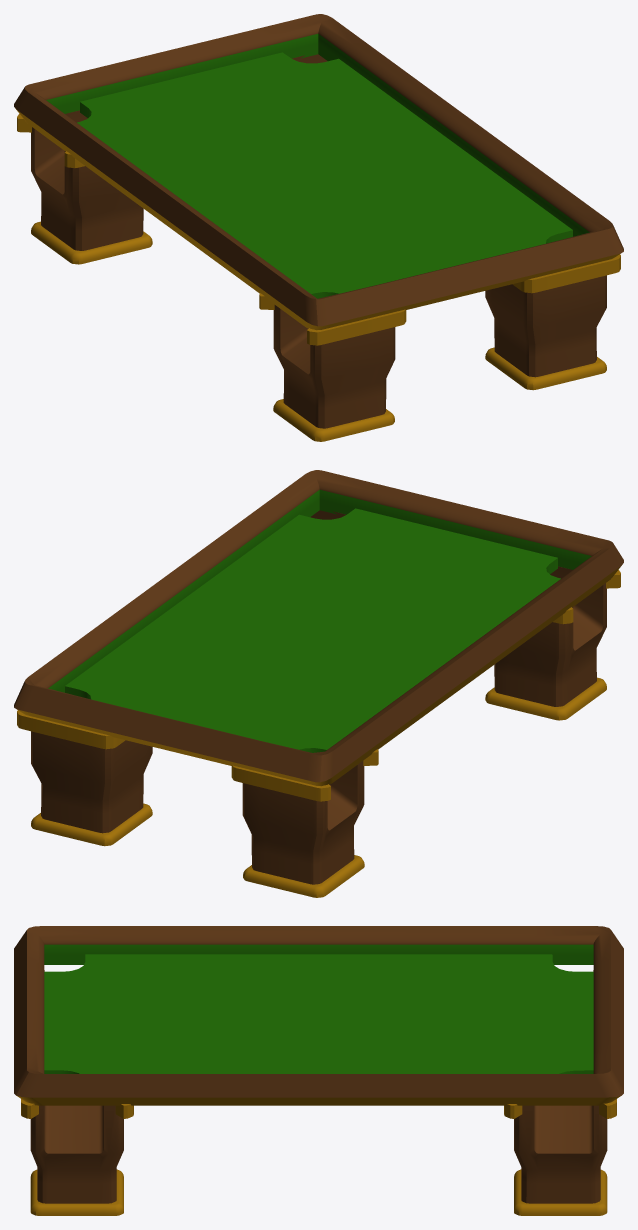
Rendered from billiard.fbx.
3 views of the same model, one above another, from view 1: azimuth 30°, elevation 25°; view 2: azimuth 150°, elevation 25°; view 3: azimuth 270°, elevation 25° (orthographic).
Parts seen in each view (by area): view 1: Cube, Cube.001; view 2: Cube, Cube.001; view 3: Cube, Cube.001.
Part boxes in pixels (x1=…): Cube: x1=14, y1=14, x2=623, y2=330; Cube.001: x1=17, y1=54, x2=620, y2=441; Cube: x1=14, y1=470, x2=623, y2=786; Cube.001: x1=17, y1=510, x2=620, y2=897; Cube: x1=14, y1=926, x2=623, y2=1105; Cube.001: x1=21, y1=970, x2=616, y2=1215.
Size of the model in its own units: 619 by 273 by 1044.
